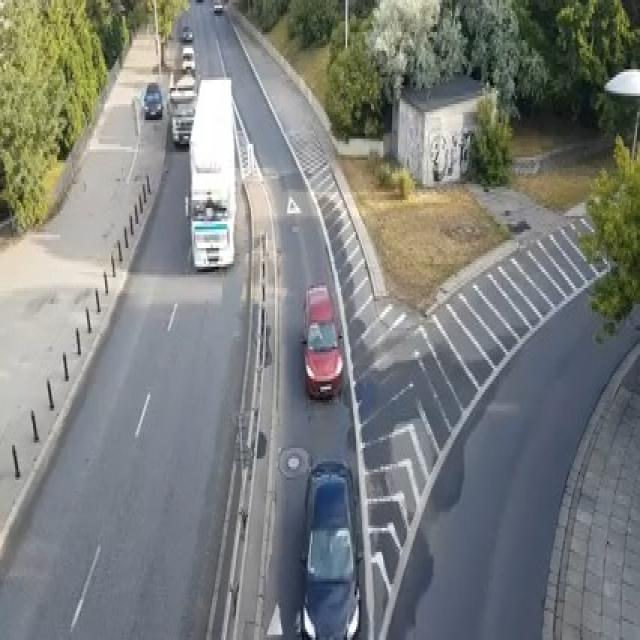bus: (183, 75, 236, 269)
car: (299, 459, 361, 637), (300, 283, 342, 400), (172, 104, 196, 147), (143, 83, 162, 117), (182, 45, 195, 75), (176, 72, 195, 91), (182, 24, 192, 40), (211, 0, 222, 13), (195, 0, 203, 3)
